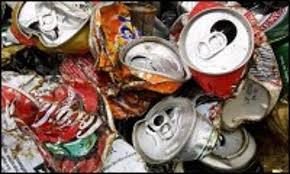Coca-Cola: (34, 99, 100, 133)
plastic: (249, 14, 276, 102)
